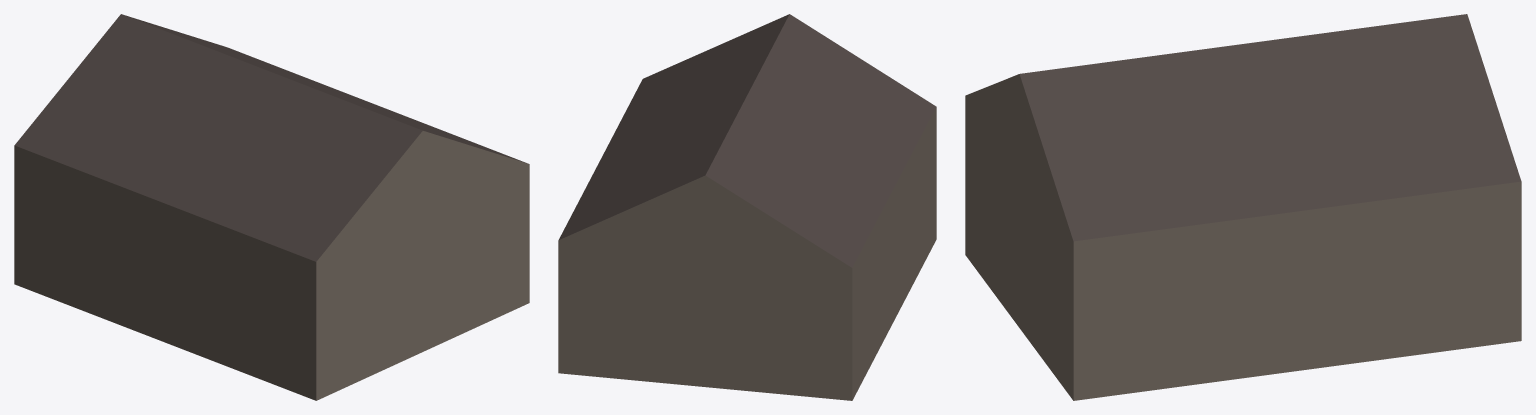
The picture shows the model from 3 angles, left to right: view 1: azimuth 30°, elevation 25°; view 2: azimuth 150°, elevation 25°; view 3: azimuth 270°, elevation 25°; orthographic projection. The views are drawn at different scales.
Parts seen in each view (by area): view 1: HP-w859078915; view 2: HP-w859078915; view 3: HP-w859078915.
Boxes of the visible parts, box(x1,y1,x2,y2) form: HP-w859078915: box(14, 14, 529, 400); HP-w859078915: box(558, 14, 936, 400); HP-w859078915: box(965, 14, 1521, 400).
Bounding box in the file's own units: 16.59 × 9.56 × 18.95.
